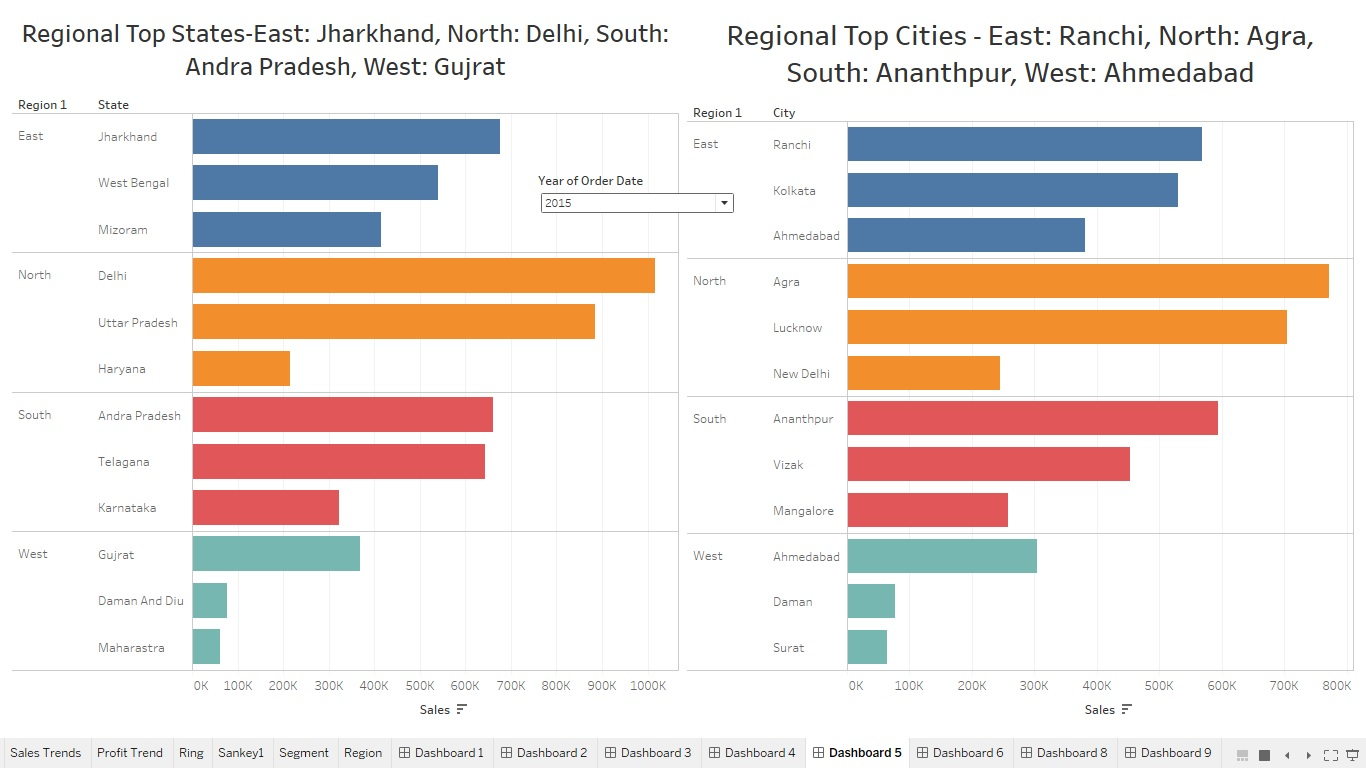

Layout of this report page (visuals, bound fields, positions):
{"tool":"tableau","page":{"name":"Dashboard 5","canvas":[1000,1000],"units":"permille","ordinal":4},"visuals":[{"type":"worksheet","title":"Top 3 States","mark":"Automatic","rows":["State"],"cols":["Sales"],"box":[5.9,10.8,494.1,978.3]},{"type":"worksheet","title":"Top 3 City","mark":"Automatic","rows":["City"],"cols":["Sales"],"box":[500,10.8,494.1,978.3]},{"type":"filter","title":"Top 3 States","param":"[federated.0a1m9l81tqbn4o0zzsdkd12s0d94 (copy)].[yr:Order Date:ok]","box":[393.9,233.1,145.5,87.8]}]}

Visuals, with their boxes on the dashboard's canvas, which has no fixed pixel size, in thousandths of its width and height (x1, y1, x2, y2). These are canvas units, not pixel positions in the 1366x768 screenshot, which may show the page scaled, cropped or inside an application window:
"Top 3 States" worksheet: bbox=[6, 11, 500, 989]
"Top 3 City" worksheet: bbox=[500, 11, 994, 989]
"Top 3 States" filter: bbox=[394, 233, 539, 321]
